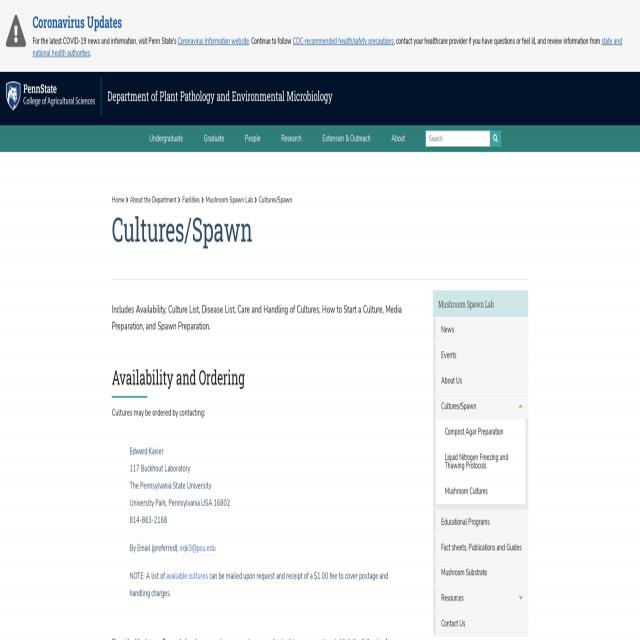button: (101, 77, 333, 115), (433, 290, 529, 318), (442, 445, 520, 478), (433, 368, 529, 394), (433, 560, 529, 586), (6, 82, 95, 110), (433, 343, 529, 368), (433, 394, 529, 419), (433, 535, 529, 560), (433, 586, 529, 611), (433, 318, 529, 342), (433, 510, 529, 534), (442, 478, 520, 504), (442, 420, 520, 444), (312, 125, 381, 152), (433, 616, 529, 632), (139, 125, 193, 152), (193, 125, 234, 152), (271, 125, 312, 152), (234, 125, 270, 152), (381, 125, 415, 152), (490, 130, 501, 146)
field: (426, 130, 490, 146)
